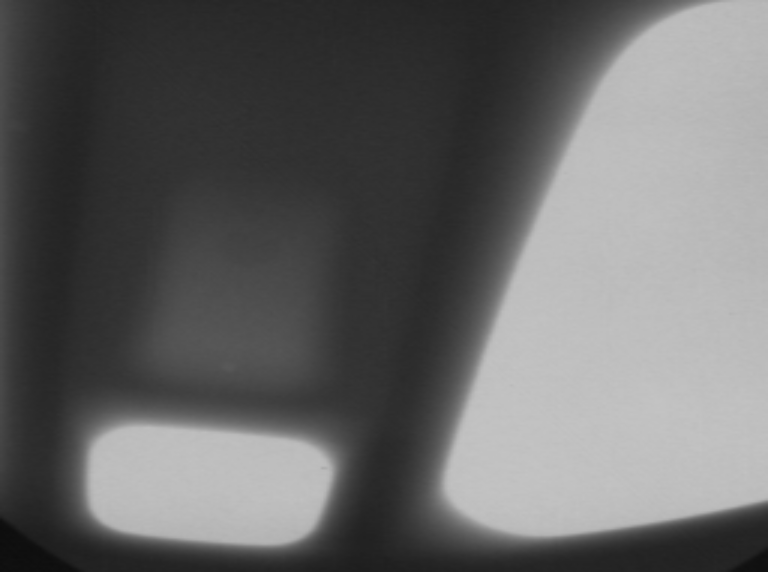defect: (210, 346, 249, 387)
